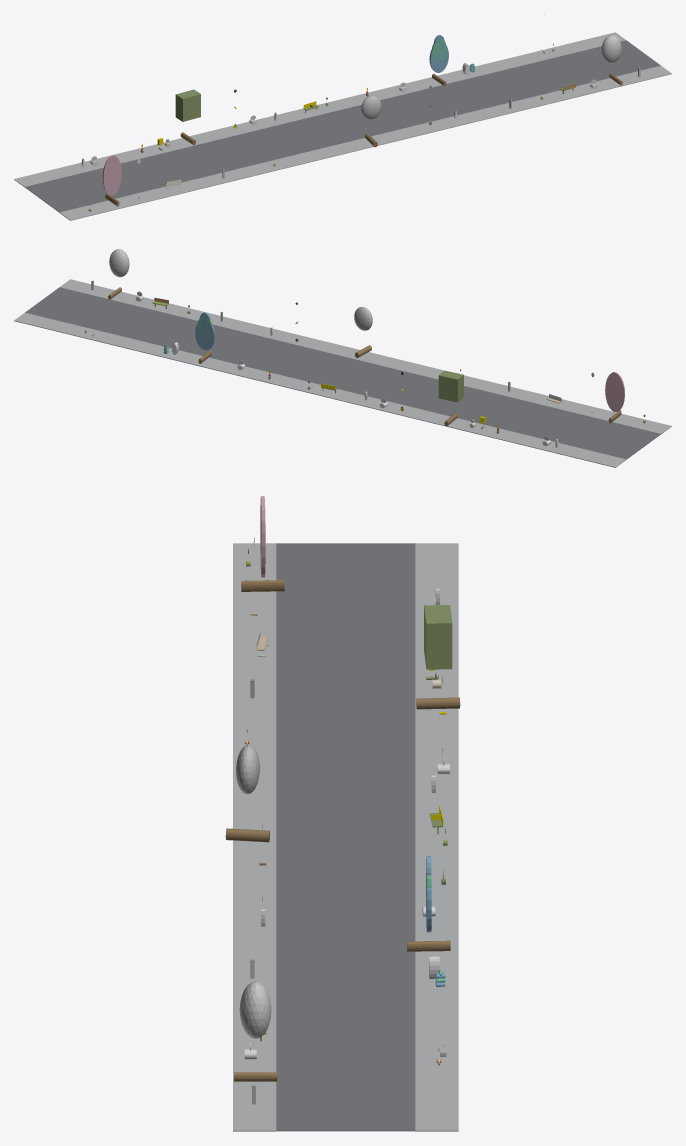
The picture shows the model from 3 angles, top to bottom: view 1: azimuth 30°, elevation 25°; view 2: azimuth 150°, elevation 25°; view 3: azimuth 270°, elevation 25°; orthographic projection. The views are drawn at different scales.
Parts seen in each view (by area): view 1: road_slab, sidewalk_left, sidewalk_right, inst_0013, inst_0012, inst_0015, inst_0016, inst_0014; view 2: road_slab, sidewalk_right, sidewalk_left, inst_0013, inst_0012, inst_0015, inst_0016, inst_0014; view 3: road_slab, sidewalk_right, sidewalk_left, inst_0013, inst_0016, inst_0014, inst_0012, inst_0015.
Boxes of the visible parts, <box> form: road_slab: <box>25,40,660,212</box>; sidewalk_left: <box>59,65,671,220</box>; sidewalk_right: <box>14,32,625,187</box>; inst_0013: <box>175,89,200,145</box>; inst_0012: <box>102,155,121,206</box>; inst_0015: <box>429,35,448,86</box>; inst_0016: <box>601,35,622,85</box>; inst_0014: <box>361,95,381,147</box>; road_slab: <box>25,287,660,459</box>; sidewalk_right: <box>14,312,626,467</box>; sidewalk_left: <box>60,279,671,434</box>; inst_0013: <box>438,370,463,426</box>; inst_0012: <box>605,372,624,423</box>; inst_0015: <box>195,312,215,363</box>; inst_0016: <box>108,249,129,299</box>; inst_0014: <box>354,306,372,357</box>; road_slab: <box>276,543,415,1131</box>; sidewalk_right: <box>415,543,458,1131</box>; sidewalk_left: <box>233,543,276,1131</box>; inst_0013: <box>416,605,460,709</box>; inst_0016: <box>234,981,277,1081</box>; inst_0014: <box>225,745,269,842</box>; inst_0012: <box>241,496,284,591</box>; inst_0015: <box>407,856,450,951</box>.
Bounding box in the file's own units: 80 × 6.08 × 13.5.
